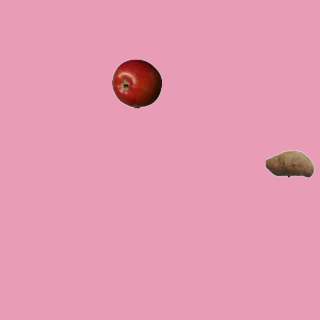Apple Braeburn: (111, 58, 161, 108)
Potato Sweet: (264, 138, 314, 188)
